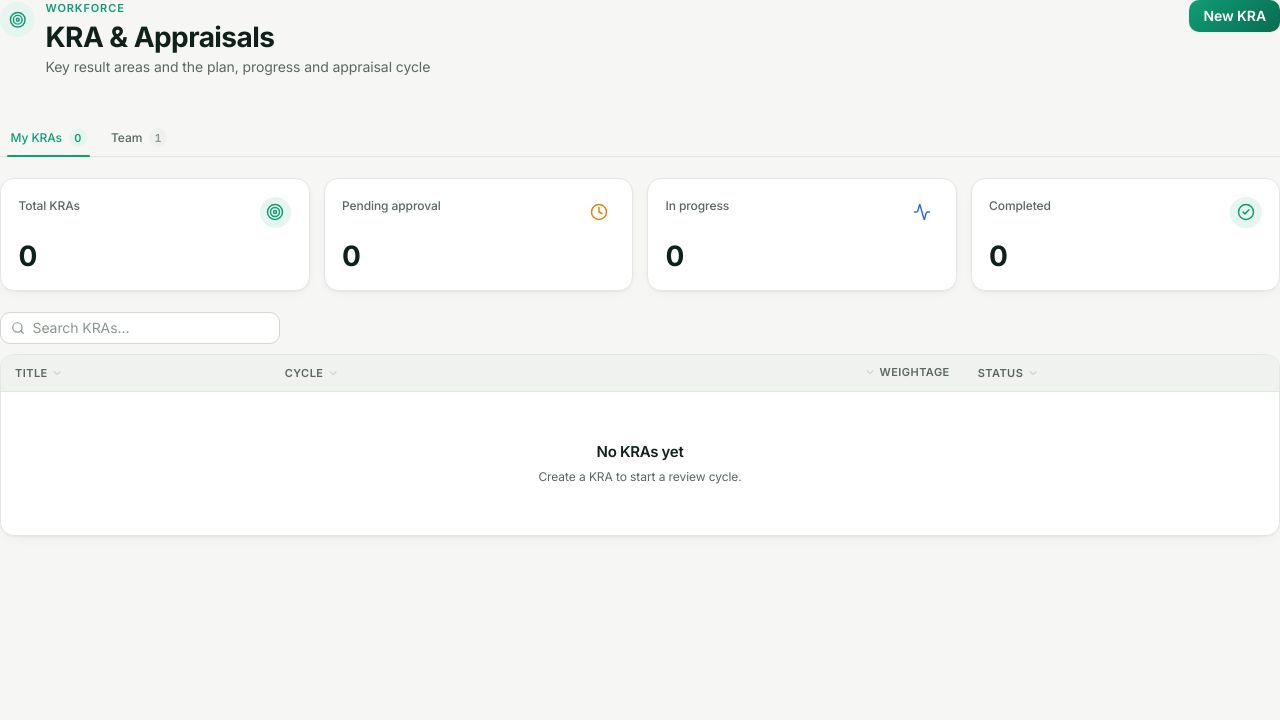
it: KraPage — manager › shows a Team tab and can act on a report’s pending KRA
Click the button "Team 1": [139, 138] box x1=100 y1=119 x2=177 y2=156
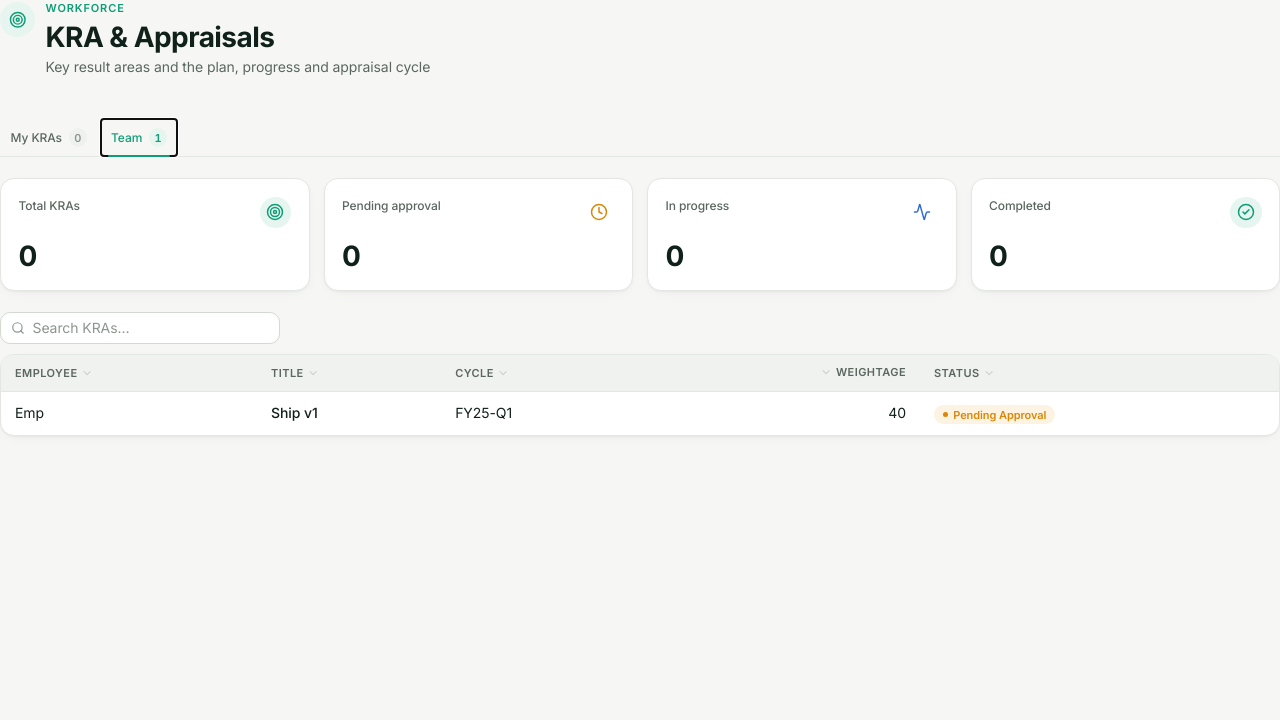
expect the text "Ship v1" is shown: met
expect the text "Emp" is shown: met, box x1=1 y1=391 x2=257 y2=435
Click the text "Ship v1": [294, 413] box x1=271 y1=404 x2=318 y2=421
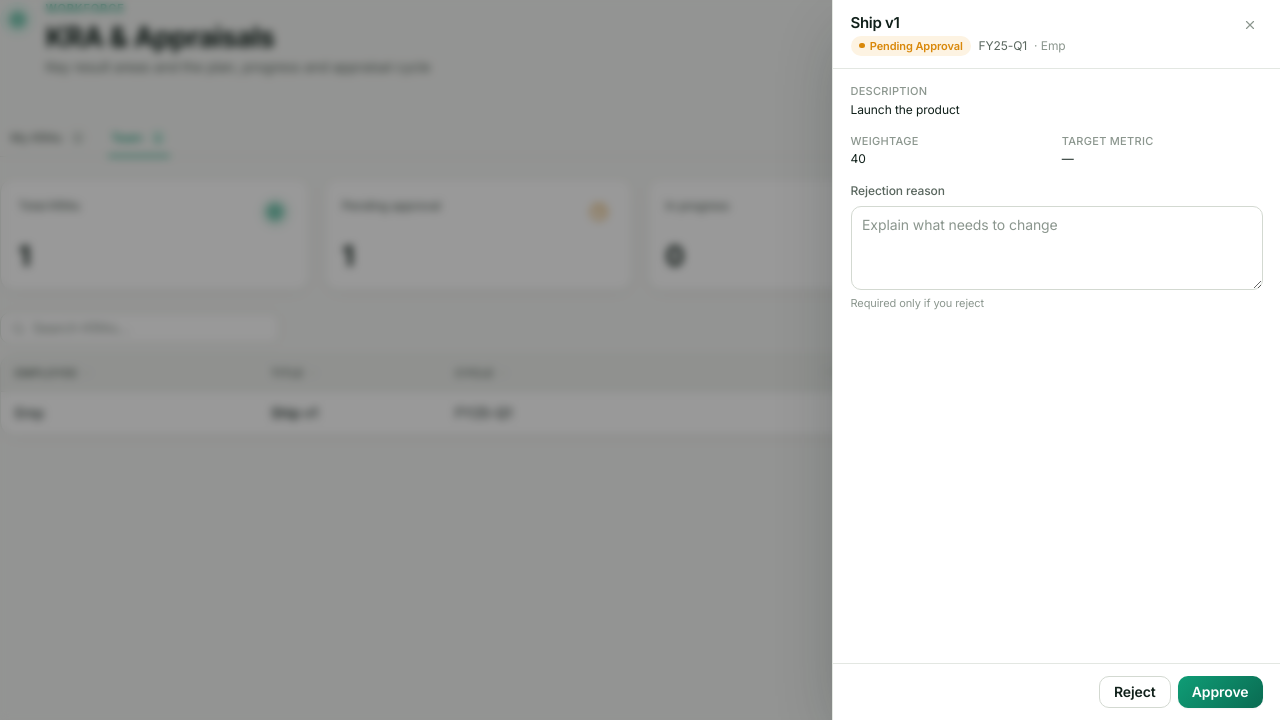
expect the button "Approve" is shown: met, box x1=1178 y1=676 x2=1262 y2=708
